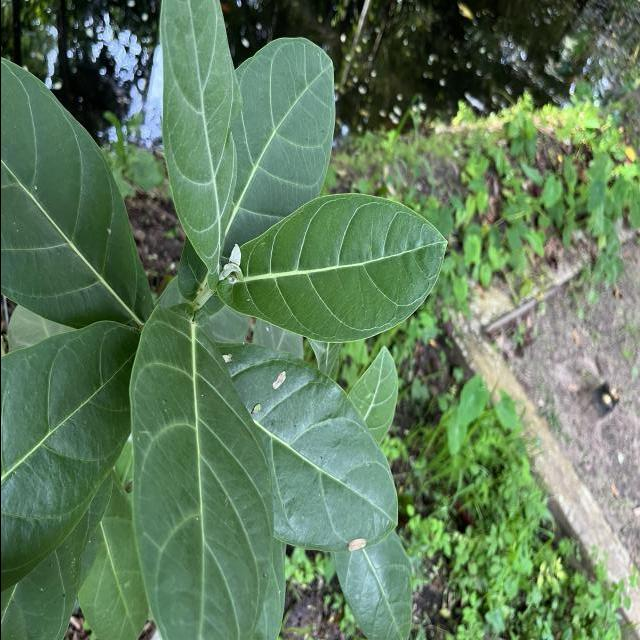Calotropis gigantea: (126, 302, 274, 640), (0, 53, 157, 329), (212, 340, 398, 553), (0, 317, 133, 595), (215, 191, 449, 344), (158, 0, 242, 289), (232, 35, 336, 248), (328, 530, 412, 640)
